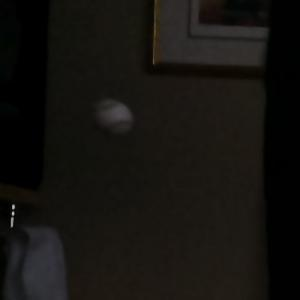ball: (90, 98, 136, 141)
